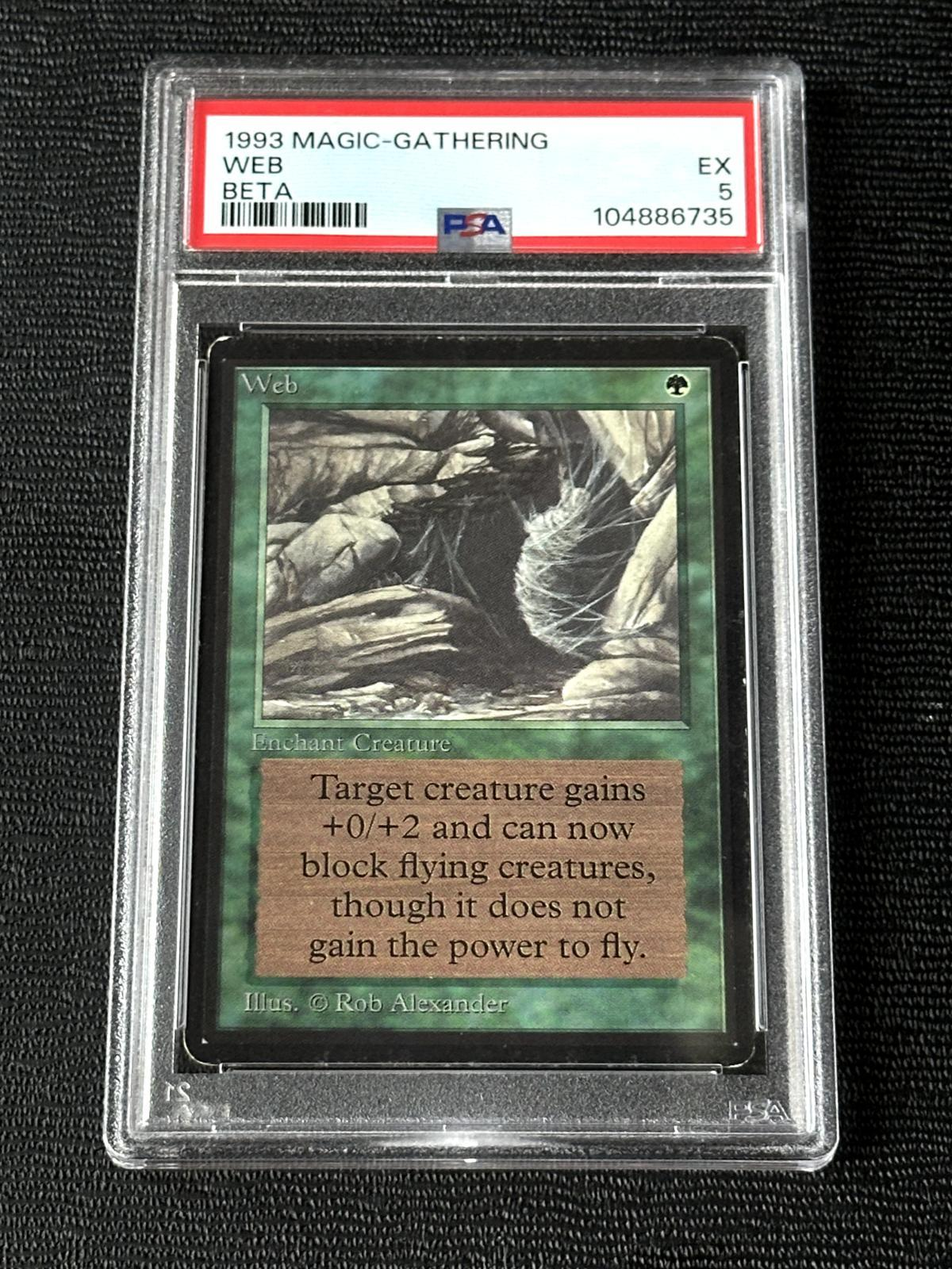card-2UtV: (182, 335, 756, 1068)
